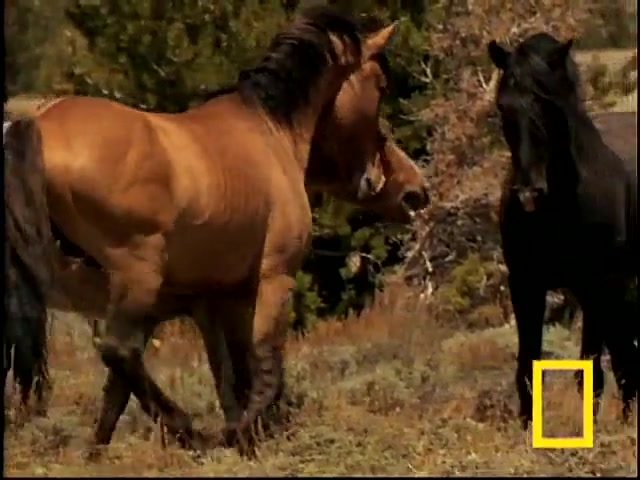horse: (3, 6, 401, 464)
